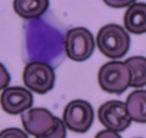L: (20, 12, 67, 65)
